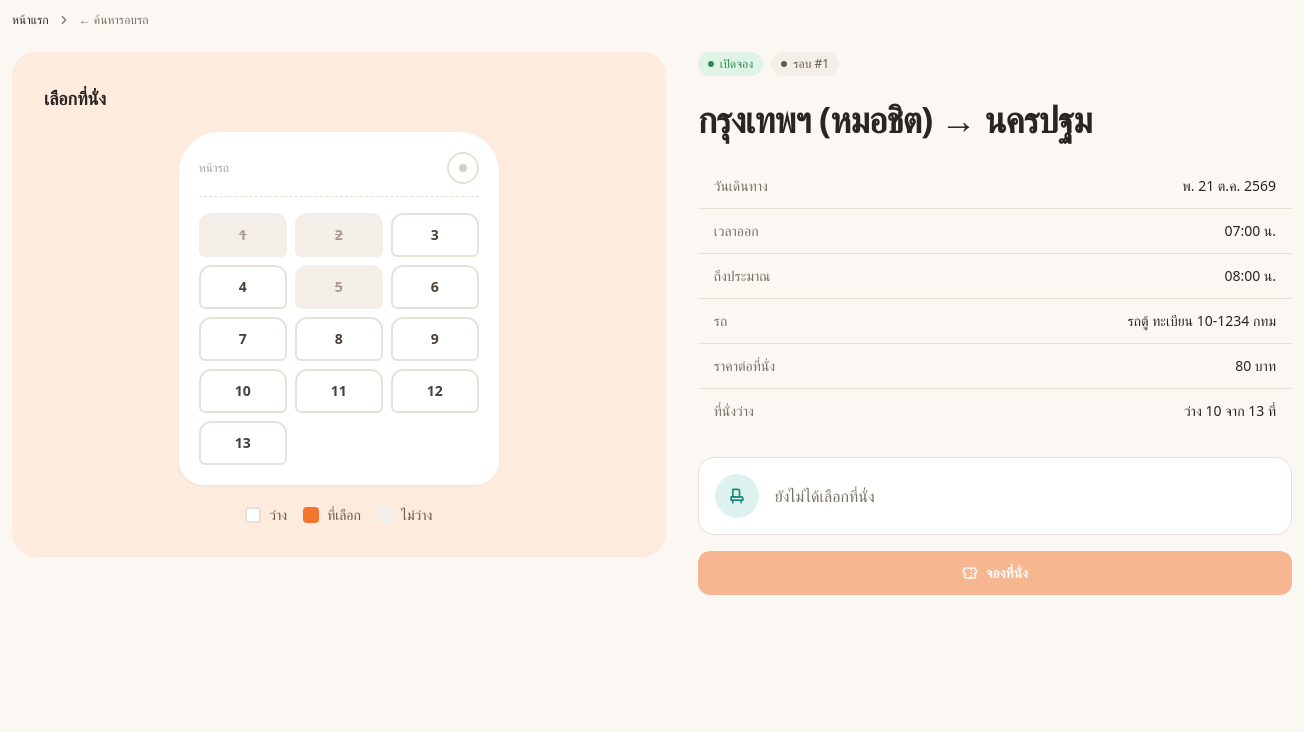
Scenario: จองสำเร็จ: ส่งรอบ + ที่นั่งไป แล้วพาไปหน้าตั๋ว
Expected: the button "จองที่นั่ง" is disabled, [698,551,1292,595]
What coordinates should you click on to do the following:
click the button named "ที่นั่ง 4"
I would click on:
 (243, 287)
Its box is [199,265,287,309].
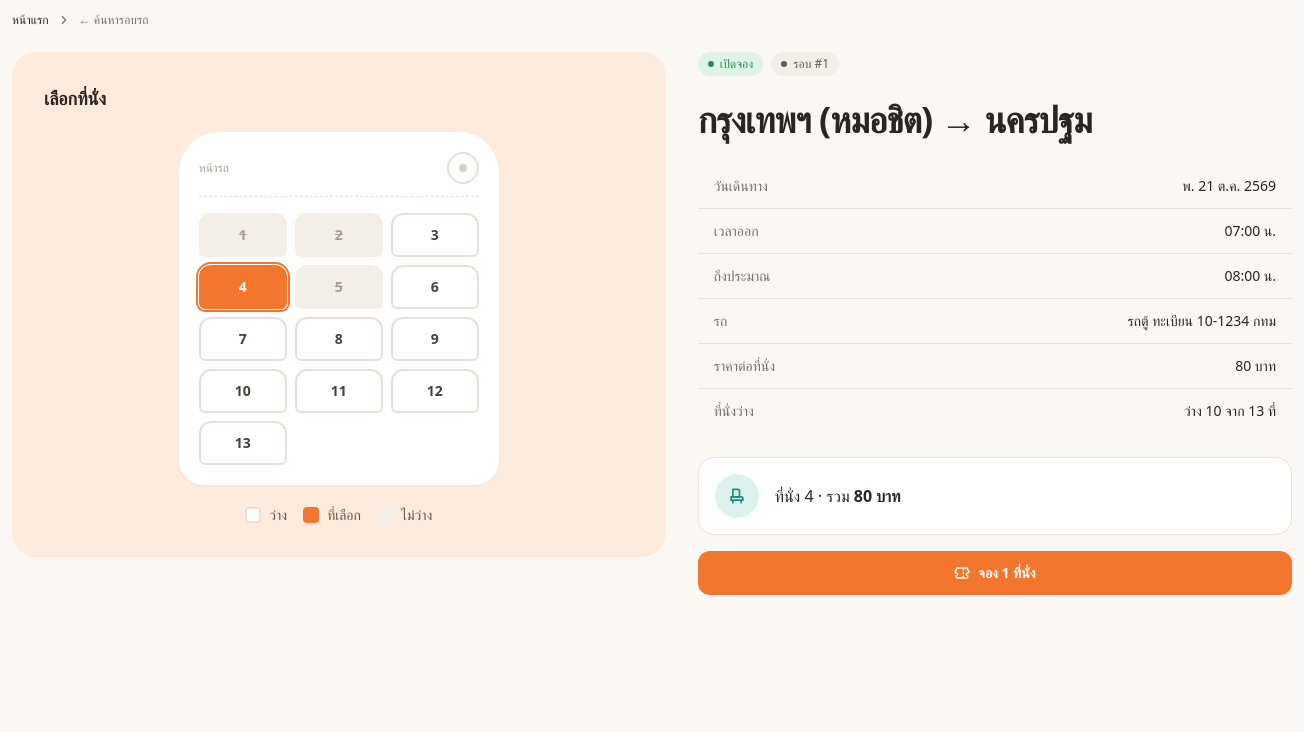
What coordinates should you click on to do the following:
click the button named "ที่นั่ง 3"
I would click on:
 (435, 235)
Its box is [391,213,479,257].
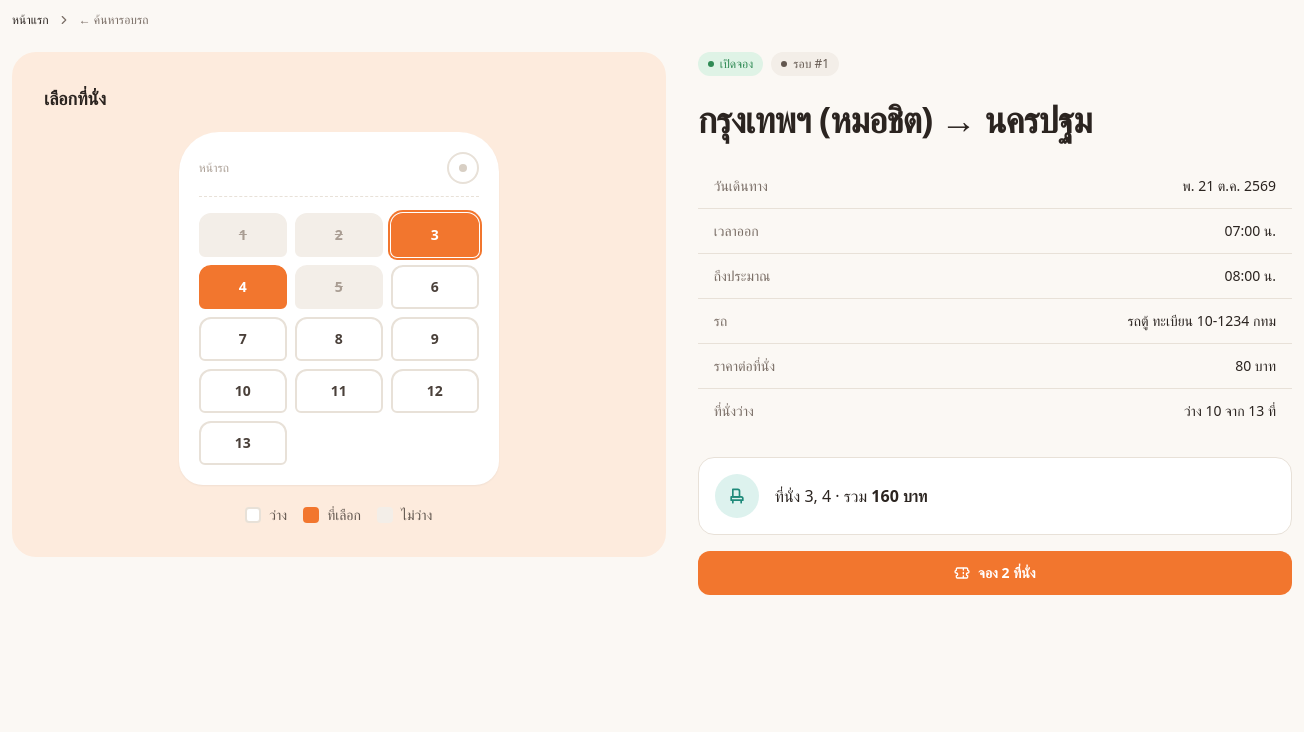
What coordinates should you click on to do the following:
click the button "จอง 2 ที่นั่ง"
I would click on:
 (995, 573)
Its box is [698,551,1292,595].
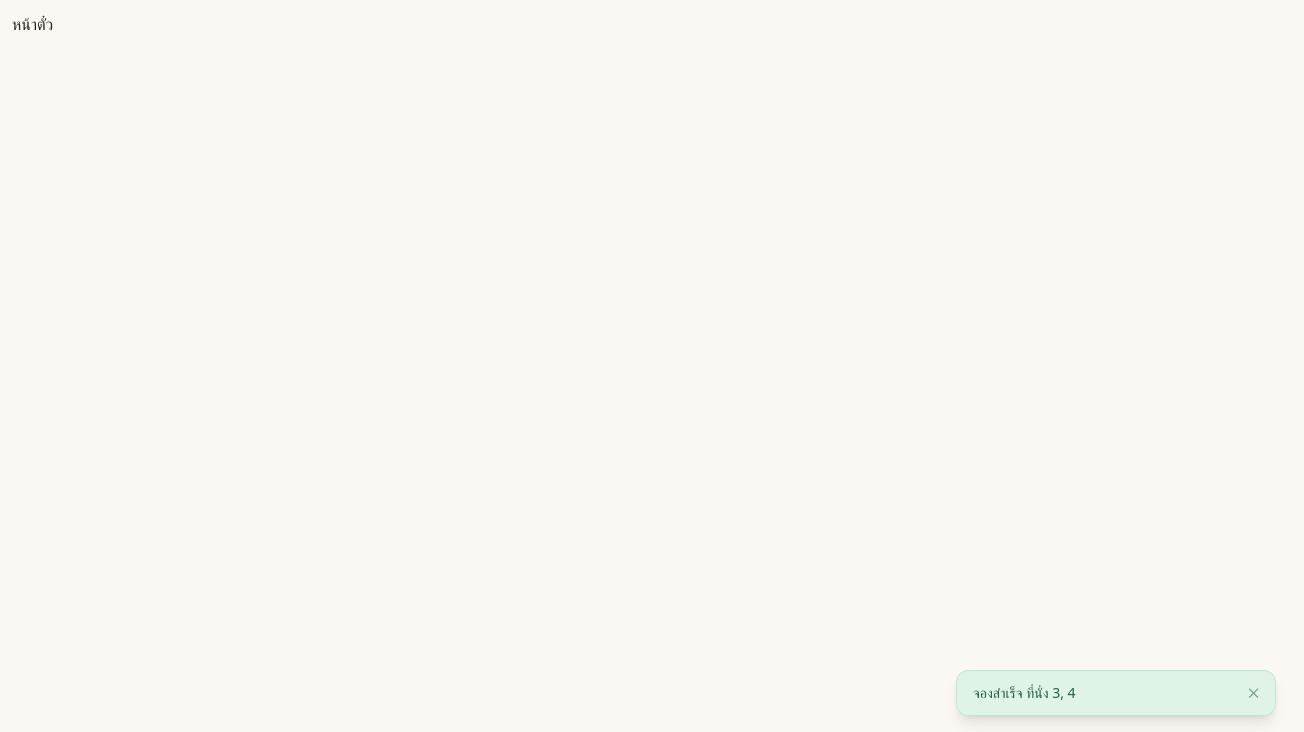
Expected: the text "หน้าตั๋ว" is shown, [12,13,53,35]
Expected: the text "จองสำเร็จ ที่นั่ง 3, 4" is shown, [973,683,1076,702]
